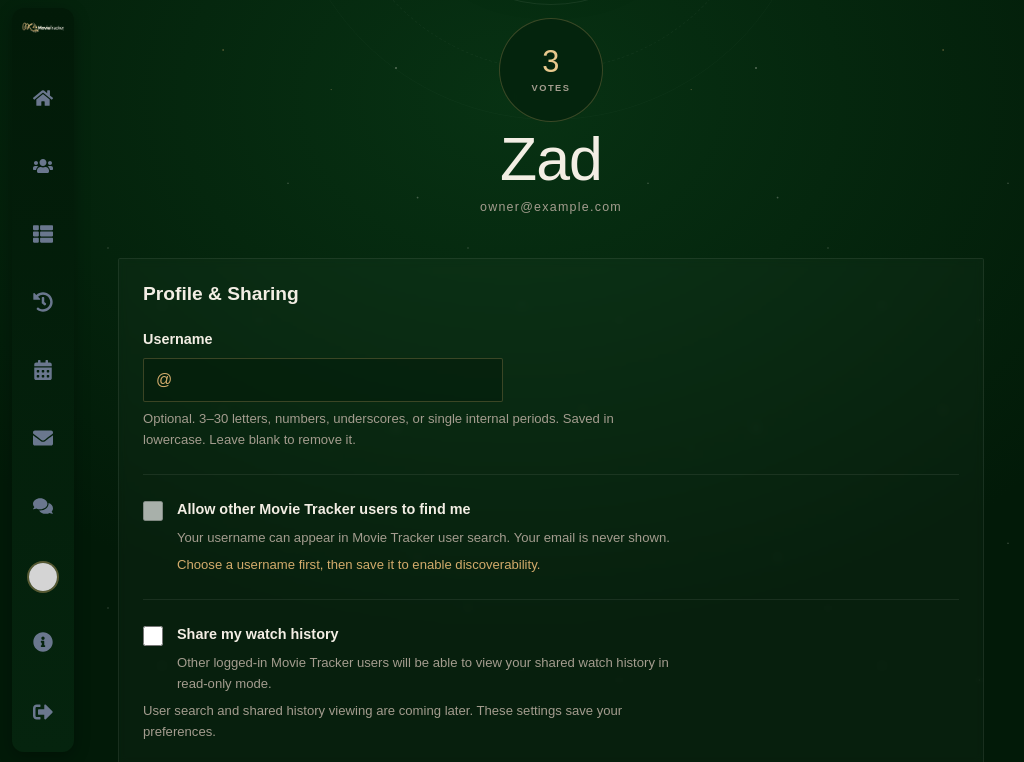
Scenario: Profile & Sharing › sets a username without opting into sharing; @ is display-only
The image size is (1024, 762).
(page scrolled)
Expected: the heading "Profile & Sharing" is shown, [143, 283, 299, 304]
In the field labelled "Username": (331, 380) [172, 359, 490, 401], type " Zad.Movie "
(page scrolled)
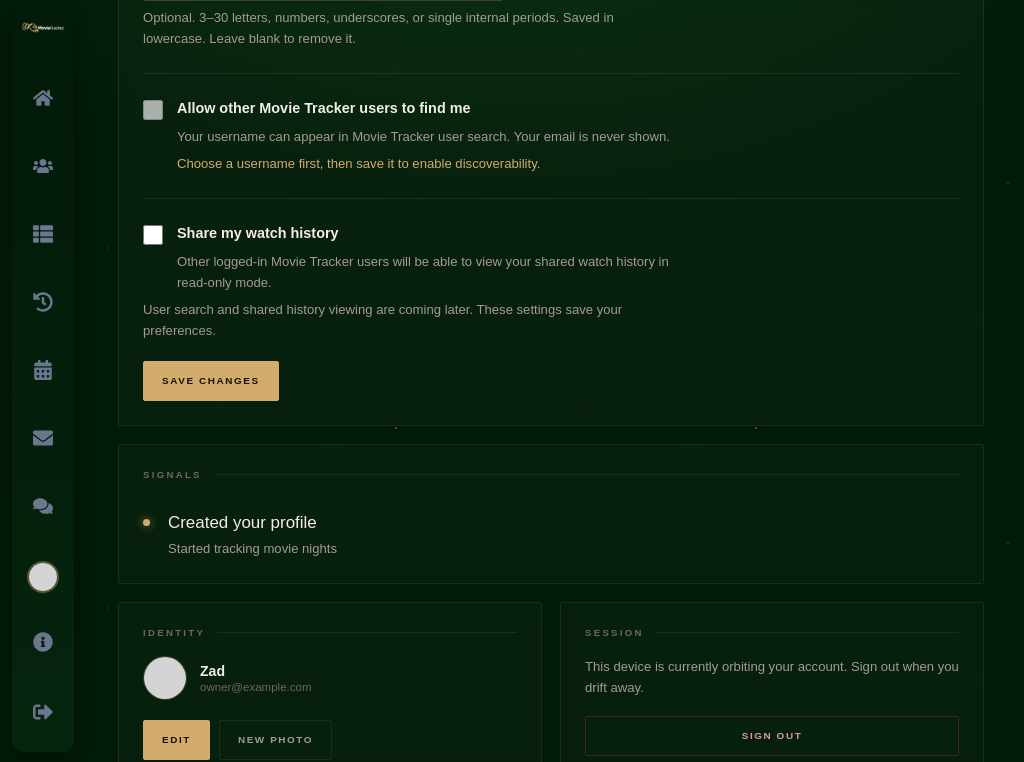
Expected: the checkbox labelled "Allow other Movie Tracker users to find me" is disabled, [143, 100, 163, 120]
Click the button "Save changes": (211, 381) [143, 361, 279, 401]
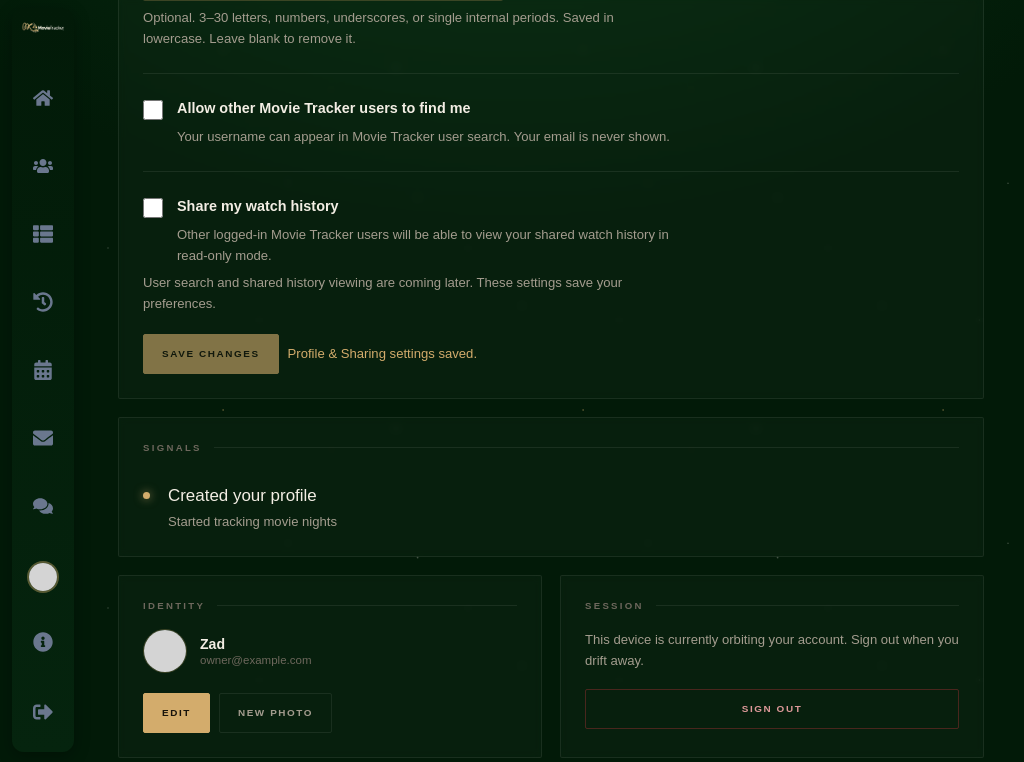
Expected: the checkbox labelled "Allow other Movie Tracker users to find me" is not checked, [143, 100, 163, 120]
Result: the checkbox labelled "Allow other Movie Tracker users to find me" is enabled at [143, 100, 163, 120]
